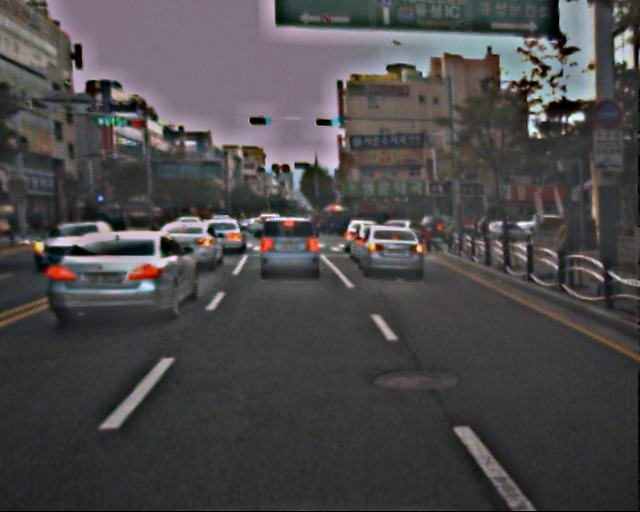person: (552, 218, 577, 278), (444, 224, 456, 253)
